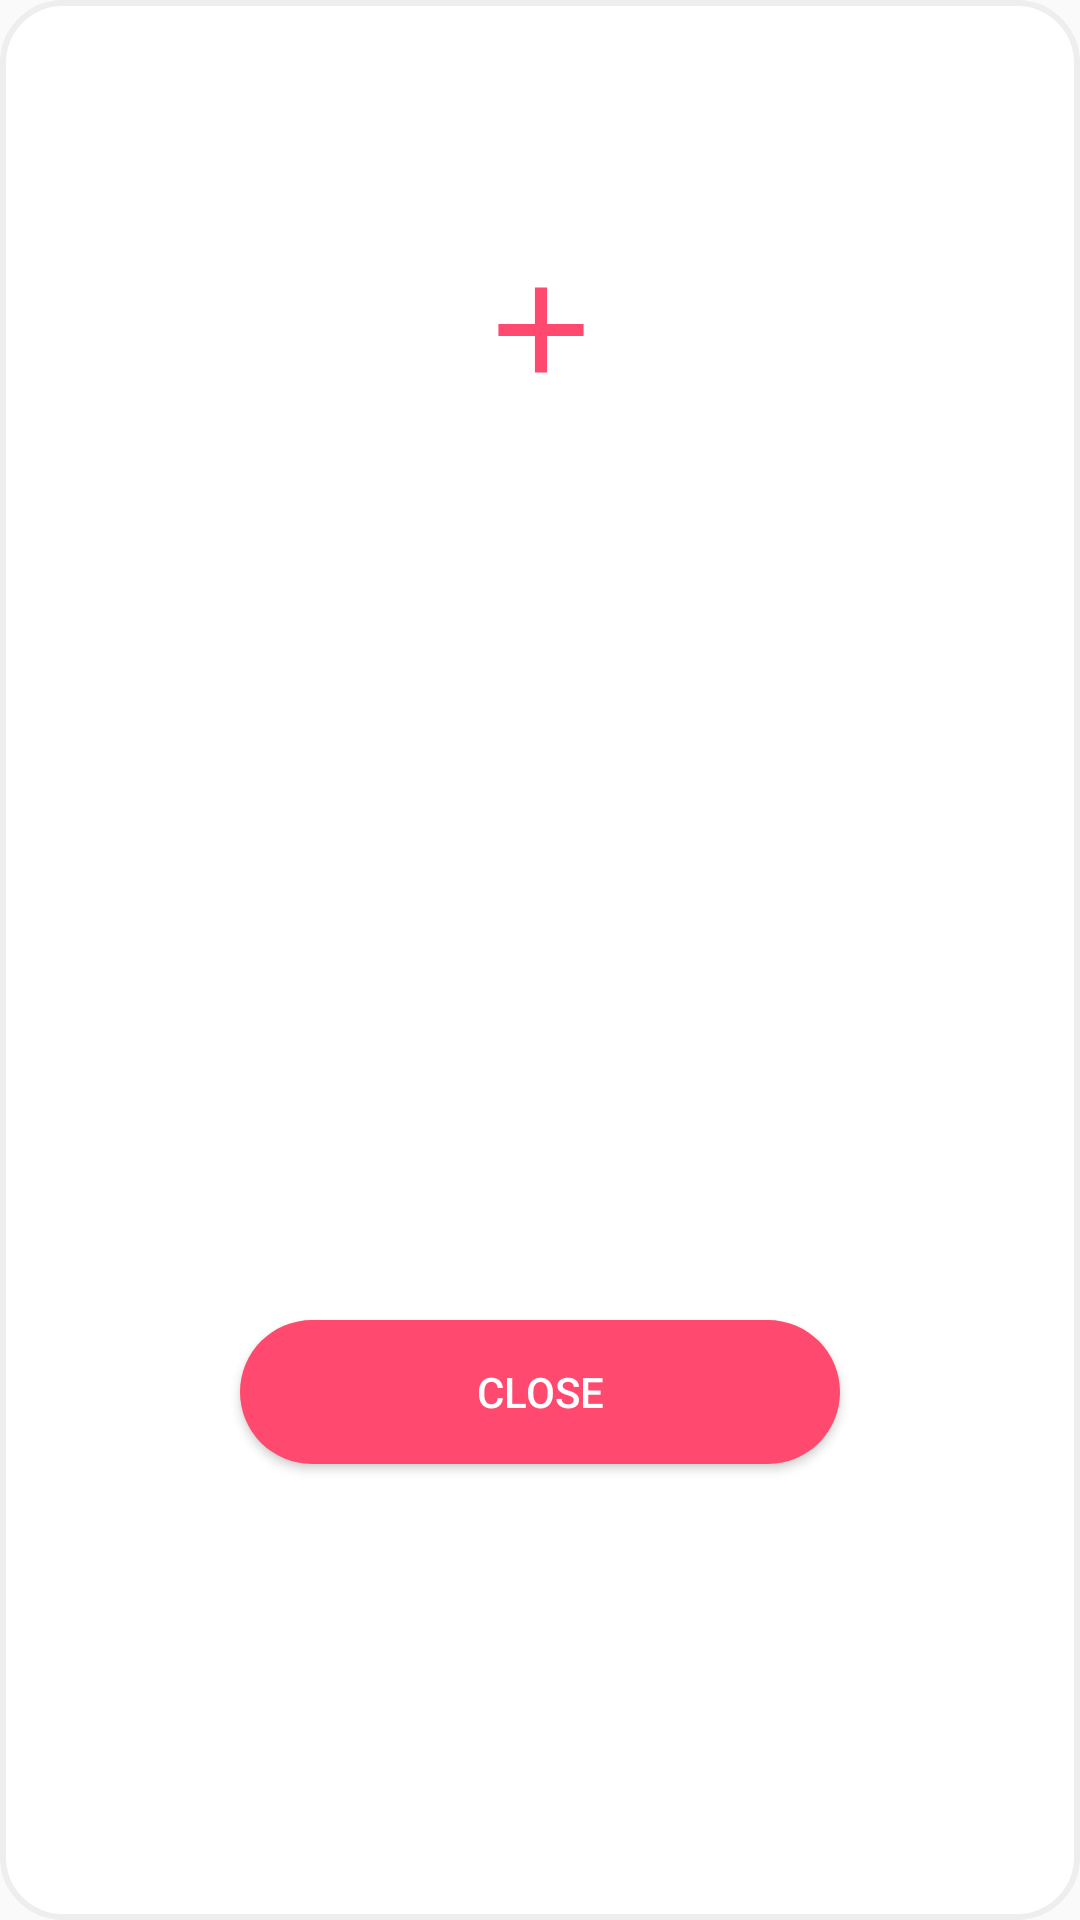

Icon bounding boxes for this 1080w x 1920h phone screenshot, format region(x1, y1, x2, y2):
add: region(498, 287, 584, 373)
